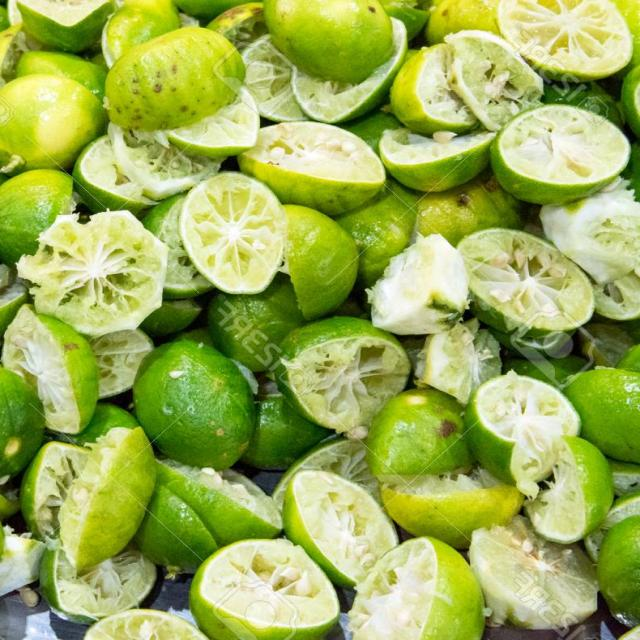organic: (14, 208, 170, 336), (134, 338, 255, 472), (469, 514, 603, 630), (277, 318, 410, 434), (188, 539, 340, 639), (105, 26, 246, 132), (238, 119, 386, 219), (453, 226, 594, 330), (488, 103, 630, 206), (352, 533, 486, 640), (281, 470, 398, 592), (58, 428, 157, 571), (469, 373, 582, 490), (181, 172, 287, 294), (0, 305, 99, 433), (152, 457, 284, 546), (262, 0, 393, 83), (499, 0, 632, 81), (439, 29, 544, 131), (380, 476, 524, 549), (37, 538, 159, 618), (525, 436, 615, 542), (285, 204, 358, 320), (378, 123, 497, 190), (69, 134, 163, 210), (160, 89, 260, 160), (76, 320, 153, 400), (12, 0, 113, 50)
